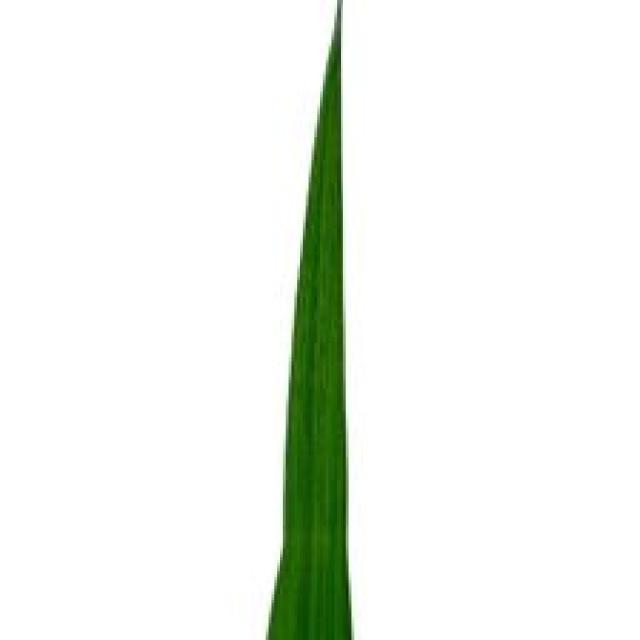Rice___Healthy_Rice_Plant: (262, 0, 350, 637)
